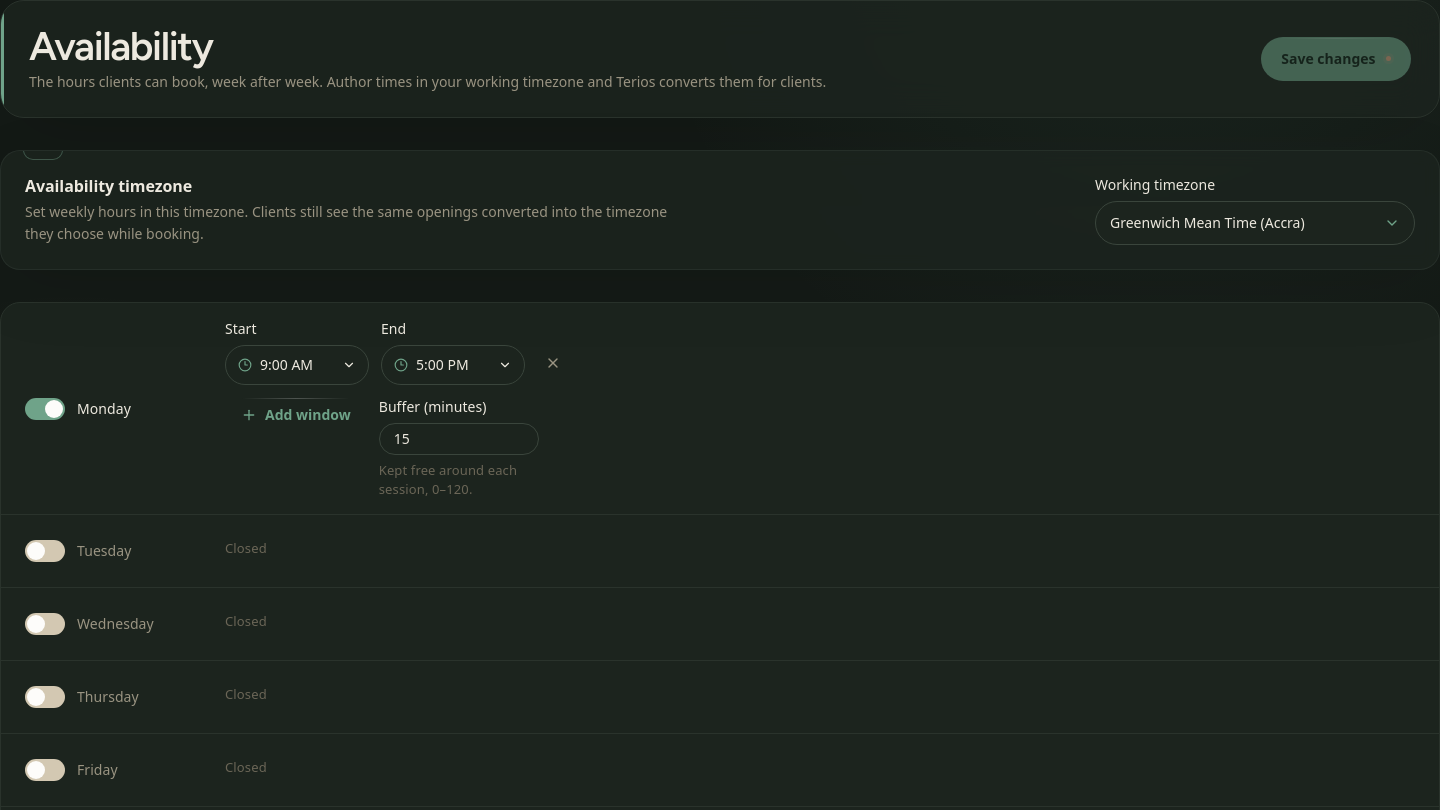
Test: AvailabilityPage › validates the buffer range
The image size is (1440, 810).
Check: the element "Monday" is shown, box [1,303,1439,515]
Replace the text in the number field labelled "Buffer (minutes)" with "150": (459, 439) [379,423,539,455]
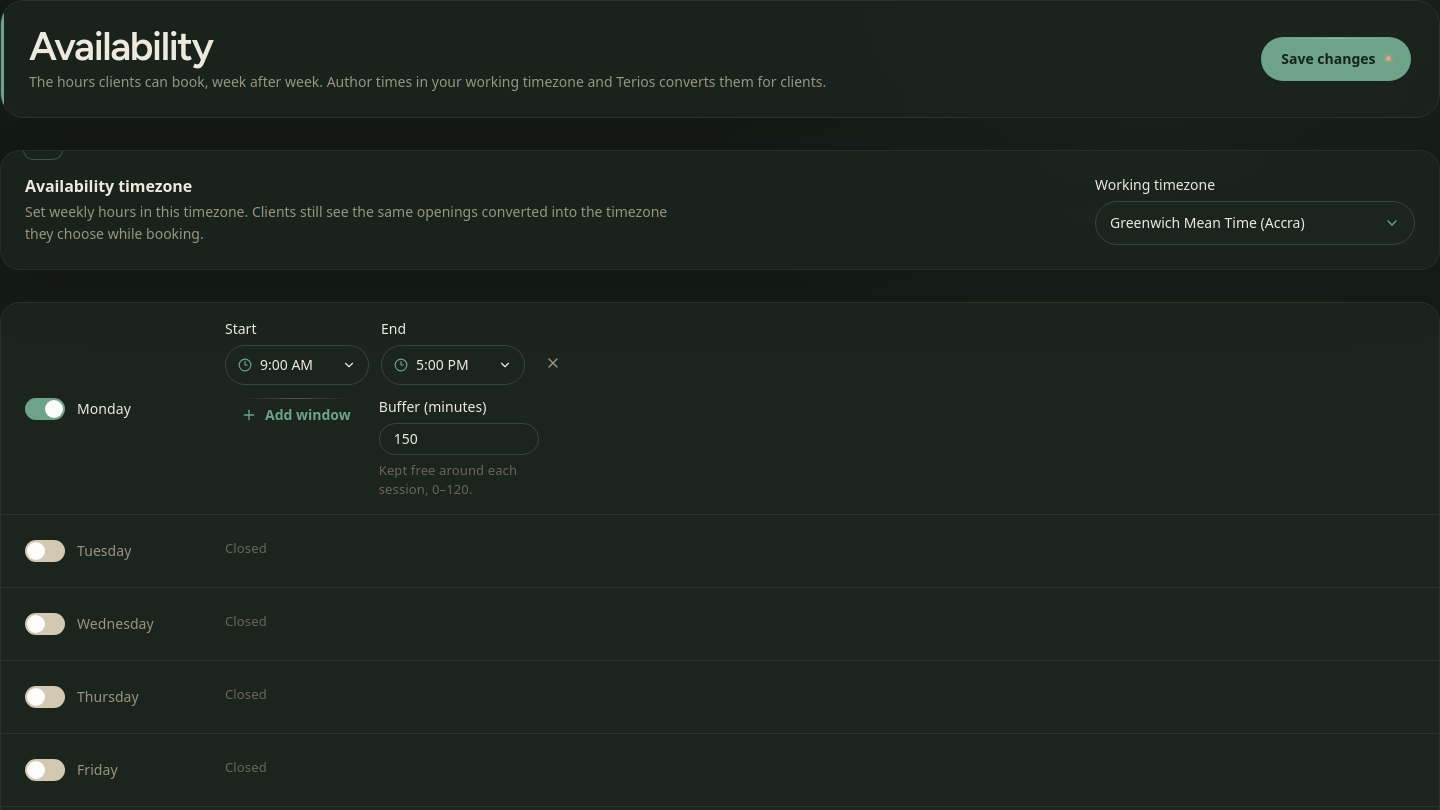
Click the button "Save changes": (1336, 59) [1261,37,1411,81]
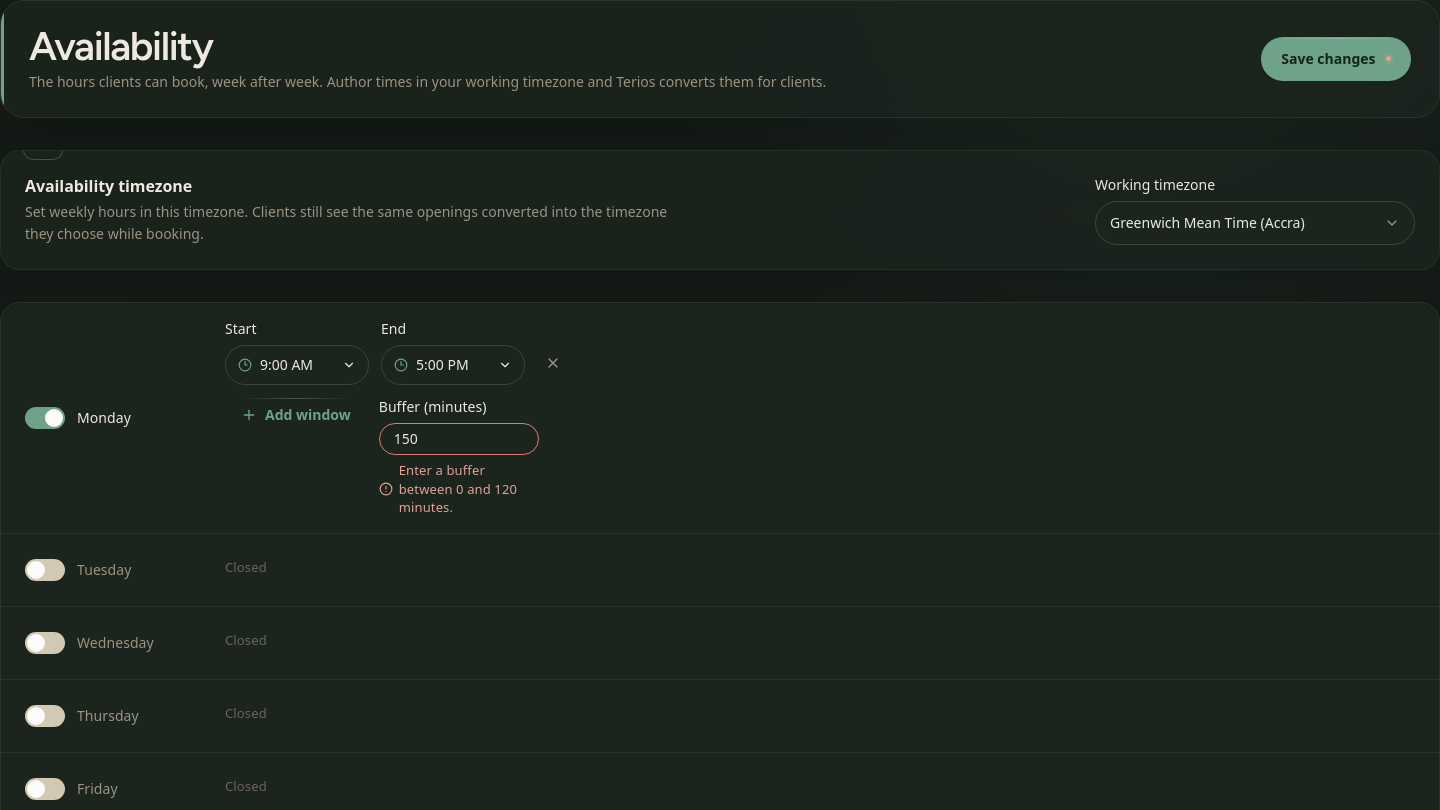
Check: the text "Enter a buffer between 0 and 120 minutes." is shown, box [379,461,539,517]
